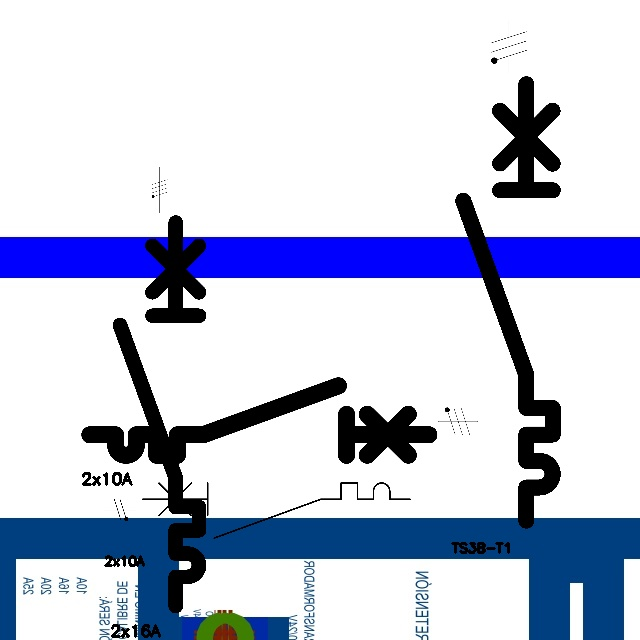interruptor_termomagnetico: (452, 72, 564, 531), (110, 212, 209, 616), (81, 377, 438, 464), (135, 476, 417, 545)
